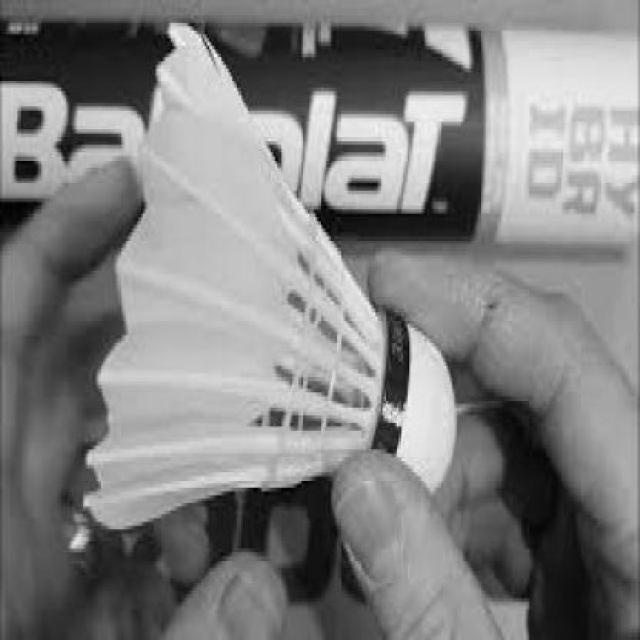Shuttlecock: (85, 20, 463, 525)
